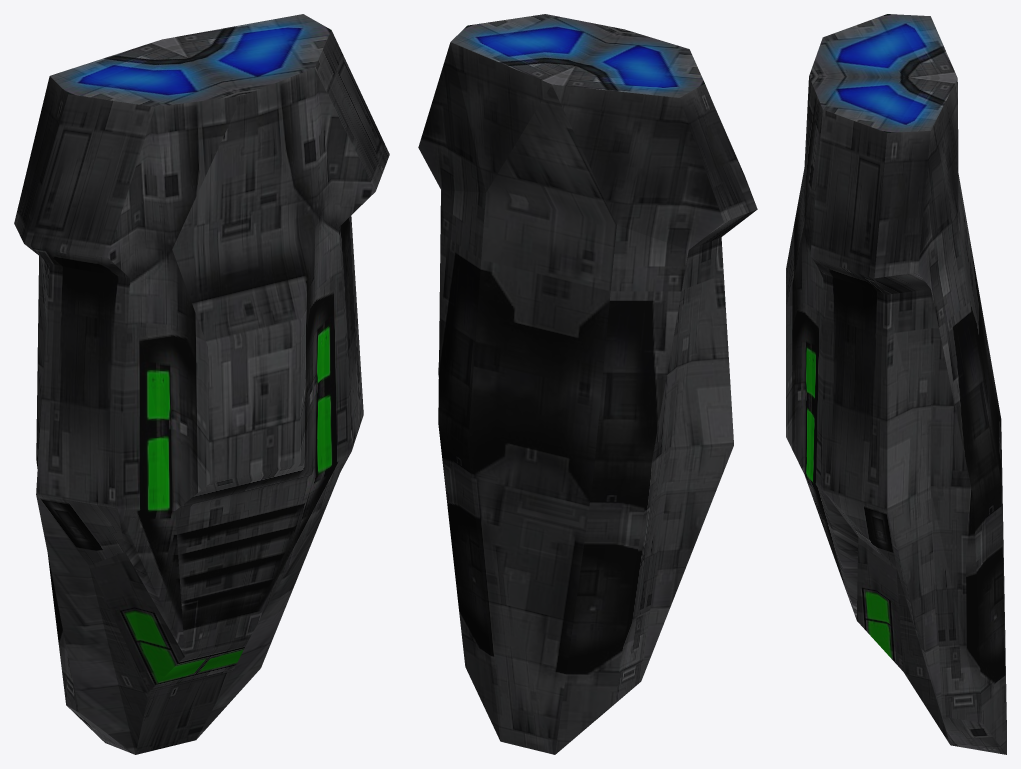
File: shuttle-01.glb
3 views of the same model, side by side, from view 1: azimuth 30°, elevation 25°; view 2: azimuth 150°, elevation 25°; view 3: azimuth 270°, elevation 25° (orthographic). The views are drawn at different scales.
Visible parts, largest first — view 1: Shuttle01; view 2: Shuttle01; view 3: Shuttle01.
Boxes of the visible parts, x1,y1,x2,y2 form: Shuttle01: (14, 14, 389, 754); Shuttle01: (418, 14, 757, 754); Shuttle01: (786, 14, 1006, 754).
Size of the model in its own units: 300 by 564 by 169.
1 material, 1 textured.
